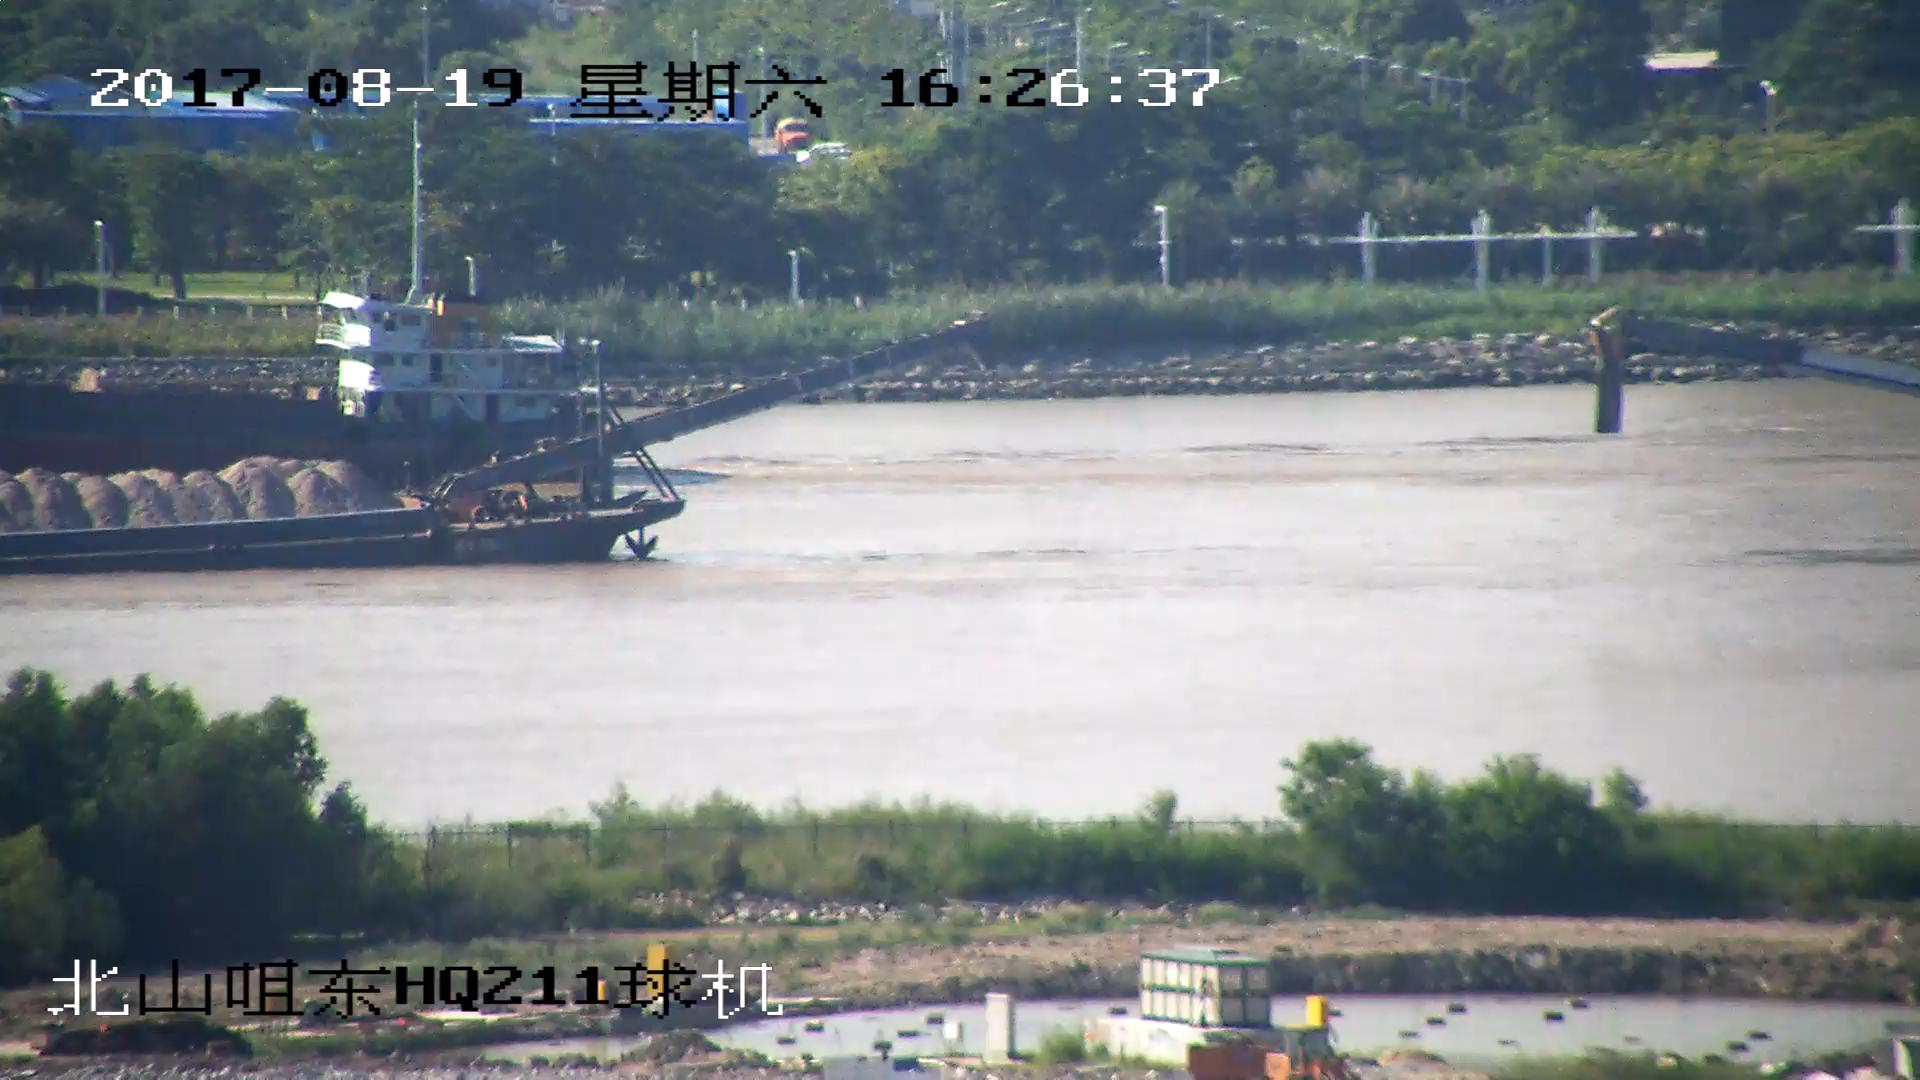bulk cargo carrier: (1, 272, 630, 472)
ore carrier: (1, 316, 985, 573)
